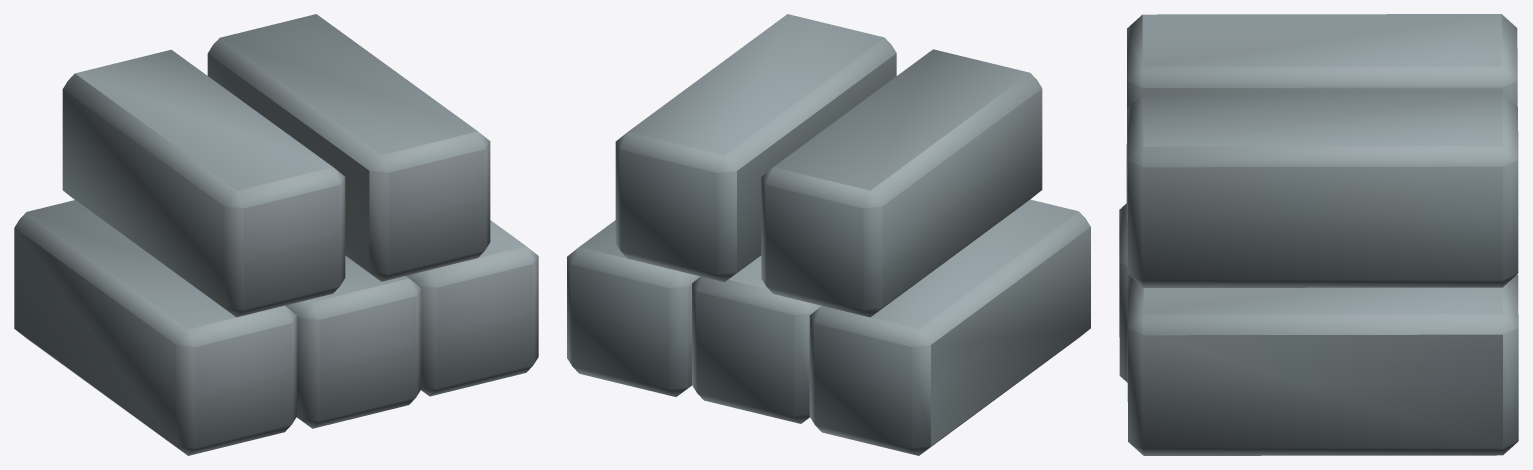
The model's file is kay-pilha-pedras.gltf.
The picture shows the model from 3 angles, left to right: view 1: azimuth 30°, elevation 25°; view 2: azimuth 150°, elevation 25°; view 3: azimuth 270°, elevation 25°; orthographic projection. The views are drawn at different scales.
Visible parts, largest first — view 1: resource_stone; view 2: resource_stone; view 3: resource_stone.
Part boxes in pixels (box(x1,y1,x2,y2)): resource_stone: box(14, 14, 538, 455); resource_stone: box(567, 14, 1090, 455); resource_stone: box(1119, 14, 1518, 455).
Size of the model in its own units: 2.11 by 1.4 by 1.79.
1 material, 1 textured.
